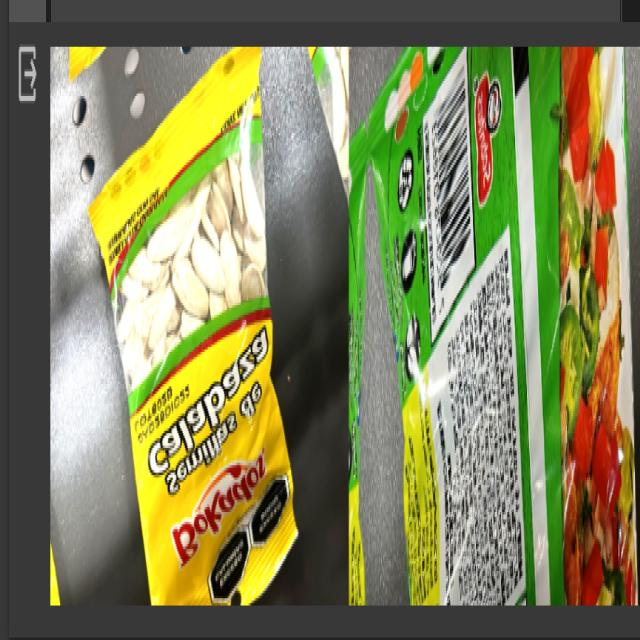productoAtras: (392, 75, 632, 607)
semillasCalabaza: (138, 78, 274, 606)
